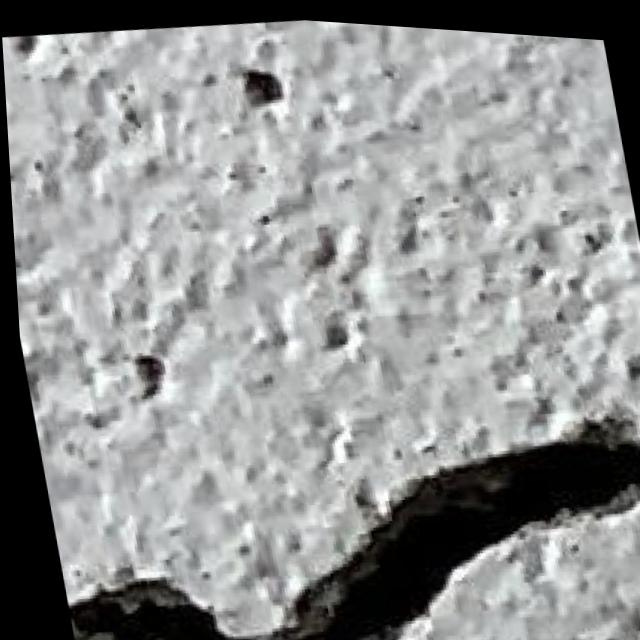Crack: (29, 364, 640, 640)
